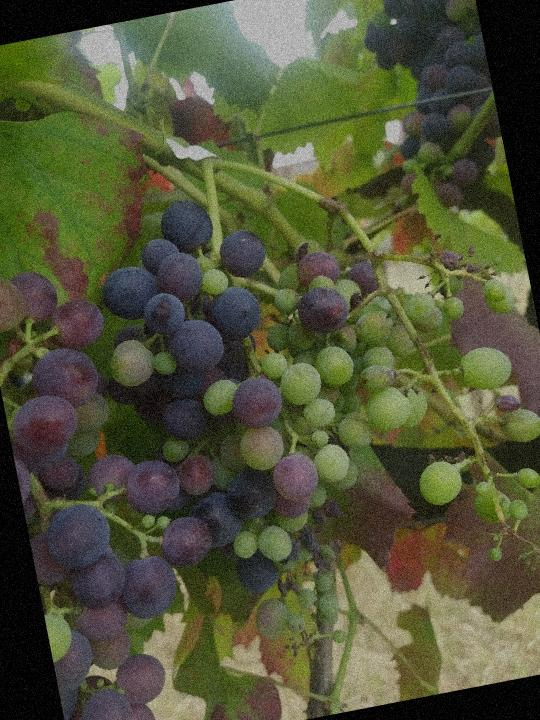grape: (77, 173, 397, 691), (283, 201, 540, 621)
